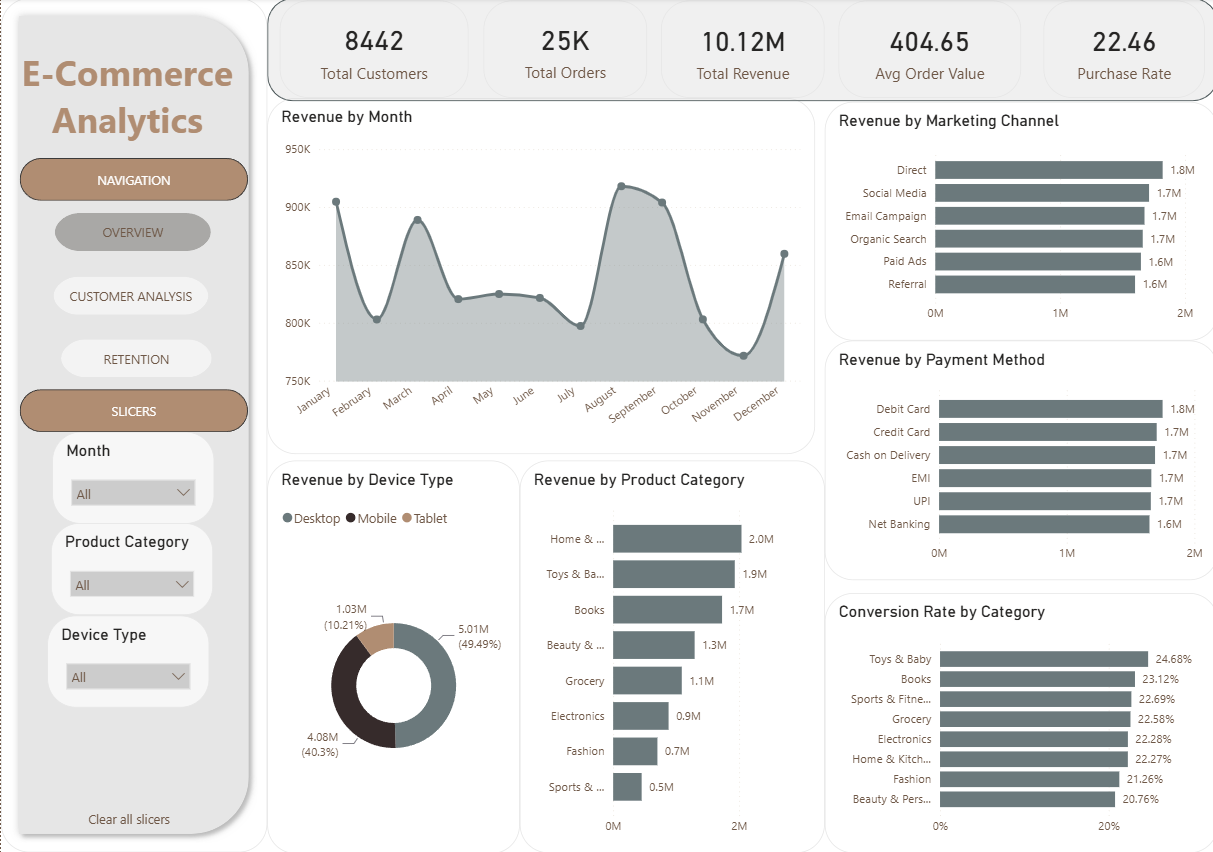

The page's visual inventory and layout, read from the dashboard file:
{"tool":"powerbi","page":{"name":"Overview","canvas":[1280,900],"ordinal":0},"visuals":[{"type":"shape","box":[0,0,280,898.3],"z":0},{"type":"textbox","box":[12.8,47.7,239.5,122.1],"z":1000},{"type":"actionButton","box":[55.7,292.9,162.9,40],"z":2000},{"type":"actionButton","box":[62.9,358.6,158.6,40],"z":3000},{"type":"slicer","title":"Month","fields":{"Values":["ecommerce_cleaned_v2.month_name"]},"box":[54.2,455.8,170,96.7],"z":4000},{"type":"actionButton","box":[83.3,842.2,98.8,39.5],"z":7000},{"type":"donutChart","title":"Revenue by Device Type","fields":{"Y":["Sum(ecommerce_cleaned_v2.revenue)"],"Category":["ecommerce_cleaned_v2.device_type"]},"box":[279.9,486.3,265.5,414],"z":8000},{"type":"barChart","title":"Revenue by Product Category","fields":{"Category":["ecommerce_cleaned_v2.product_category"],"Y":["Sum(ecommerce_cleaned_v2.revenue)"]},"box":[545.4,486.3,320.7,412.7],"z":9000},{"type":"barChart","title":"Revenue by Marketing Channel","fields":{"Category":["ecommerce_cleaned_v2.marketing_channel"],"Y":["Sum(ecommerce_cleaned_v2.revenue)"]},"box":[866.1,109.1,414,251],"z":10000},{"type":"lineChart","title":"Revenue by Month","fields":{"Category":["ecommerce_cleaned_v2.month_name"],"Y":["Sum(ecommerce_cleaned_v2.revenue)"]},"box":[279.9,105.1,575.6,374.6],"z":11000},{"type":"actionButton","box":[57.1,225.7,164.3,40],"z":12000},{"type":"shape","box":[280,0,1000,108.6],"z":13000},{"type":"card","fields":{"Values":["churn_by_channel.Total Customers"]},"box":[293.1,3.1,198.5,102.3],"z":14000},{"type":"card","fields":{"Values":["churn_by_channel.Total Orders"]},"box":[507,3,172,102],"z":15000},{"type":"card","fields":{"Values":["churn_by_channel.Total Revenue"]},"box":[693.9,2.6,172.2,102.5],"z":16000},{"type":"card","fields":{"Values":["churn_by_channel.Avg Order Value"]},"box":[880.6,2.6,191.9,102.5],"z":17000},{"type":"card","fields":{"Values":["churn_by_channel.Purchase Rate"]},"box":[1096.1,2.6,169.5,102.5],"z":18000},{"type":"barChart","title":"Revenue by Payment Method","fields":{"Category":["ecommerce_cleaned_v2.payment_method"],"Y":["Sum(ecommerce_cleaned_v2.revenue)"]},"box":[866.1,360.1,414,252.3],"z":19000},{"type":"barChart","title":"Conversion Rate by Category","fields":{"Category":["ecommerce_cleaned_v2.product_category"],"Y":["churn_by_channel.Conversion Rate"]},"box":[866.1,625.6,414,273.4],"z":20000},{"type":"shape","box":[20,168.6,240,45],"z":21000},{"type":"shape","box":[19.2,410.8,240,45],"z":22000},{"type":"slicer","title":"Product Category","fields":{"Values":["ecommerce_cleaned_v2.product_category"]},"box":[52.2,552.2,170,97.1],"z":23000},{"type":"slicer","title":"Device Type","fields":{"Values":["ecommerce_cleaned_v2.device_type"]},"box":[48.9,648.9,170,96.7],"z":24000}]}

Visuals, with their boxes in screenshot pixels (x1, y1, x2, y2), scaled from the page's 1280x900 canvas onto the 1213x852 screenshot:
shape: detection(0, 0, 265, 850)
textbox: detection(12, 45, 239, 161)
actionButton: detection(53, 277, 207, 315)
actionButton: detection(60, 339, 210, 377)
"Month" slicer: detection(51, 431, 212, 523)
actionButton: detection(79, 797, 173, 835)
"Revenue by Device Type" donutChart: detection(265, 460, 517, 851)
"Revenue by Product Category" barChart: detection(517, 460, 821, 851)
"Revenue by Marketing Channel" barChart: detection(821, 103, 1212, 341)
"Revenue by Month" lineChart: detection(265, 99, 811, 454)
actionButton: detection(54, 214, 210, 252)
shape: detection(265, 0, 1212, 103)
card - churn_by_channel.Total Customers: detection(278, 3, 466, 100)
card - churn_by_channel.Total Orders: detection(480, 3, 643, 99)
card - churn_by_channel.Total Revenue: detection(658, 2, 821, 99)
card - churn_by_channel.Avg Order Value: detection(835, 2, 1016, 99)
card - churn_by_channel.Purchase Rate: detection(1039, 2, 1199, 99)
"Revenue by Payment Method" barChart: detection(821, 341, 1212, 580)
"Conversion Rate by Category" barChart: detection(821, 592, 1212, 851)
shape: detection(19, 160, 246, 202)
shape: detection(18, 389, 246, 431)
"Product Category" slicer: detection(49, 523, 211, 615)
"Device Type" slicer: detection(46, 614, 207, 706)
